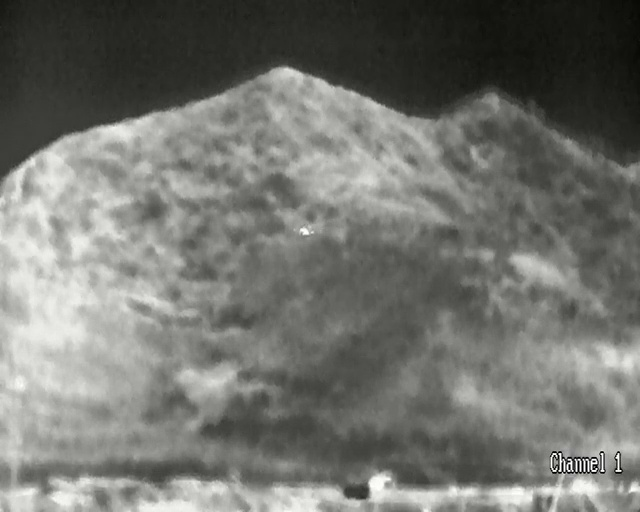uav: (299, 226, 313, 236)
